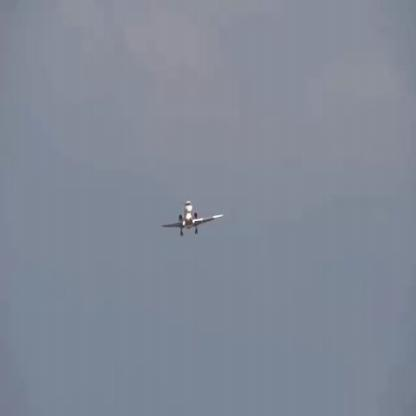CIV_Plane: (160, 200, 225, 236)
